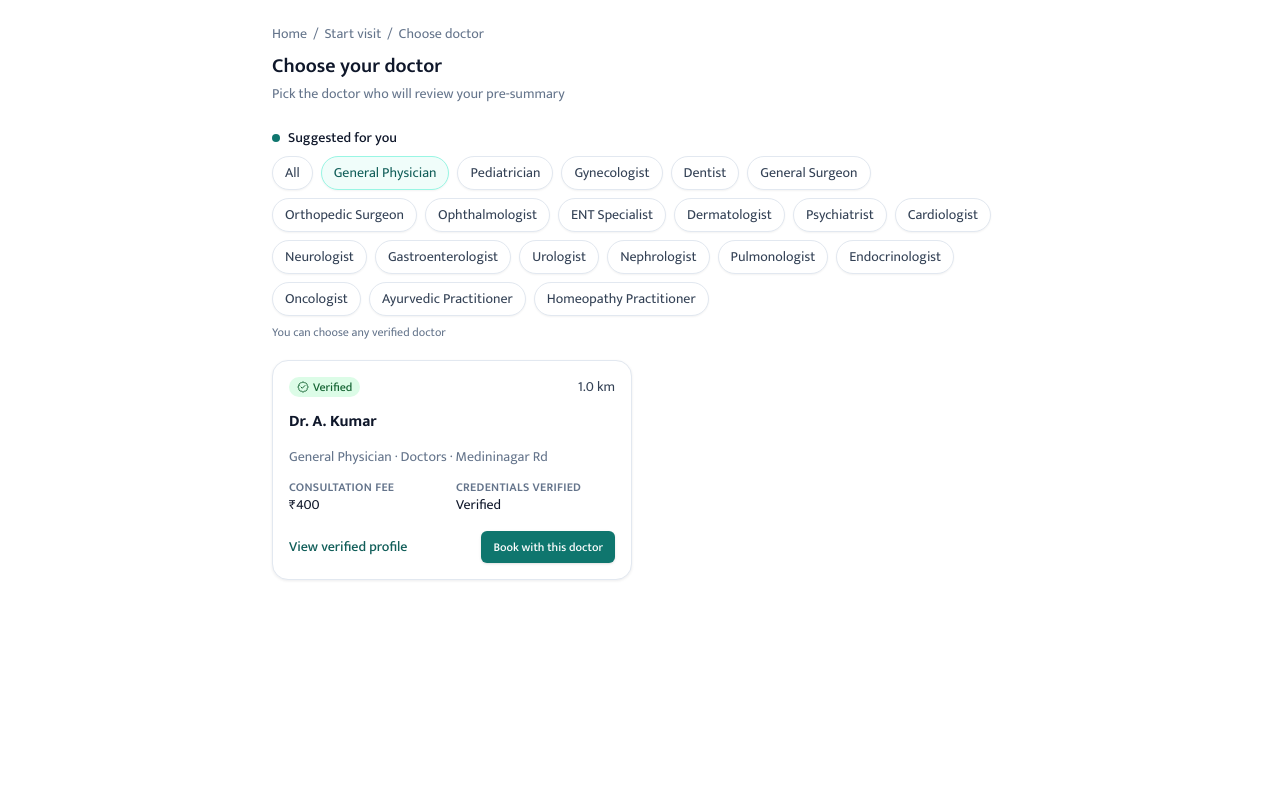
PickDoctorPage booking + confirmation › Allow records pick + consent in one step and shows confirmation with what happens next
The width and height of the screenshot is (1280, 800).
Expected: the element with test id "pick-cards" is shown, x1=272 y1=360 x2=632 y2=580
Click the button with test id "pick-book": (548, 547) x1=481 y1=531 x2=615 y2=563
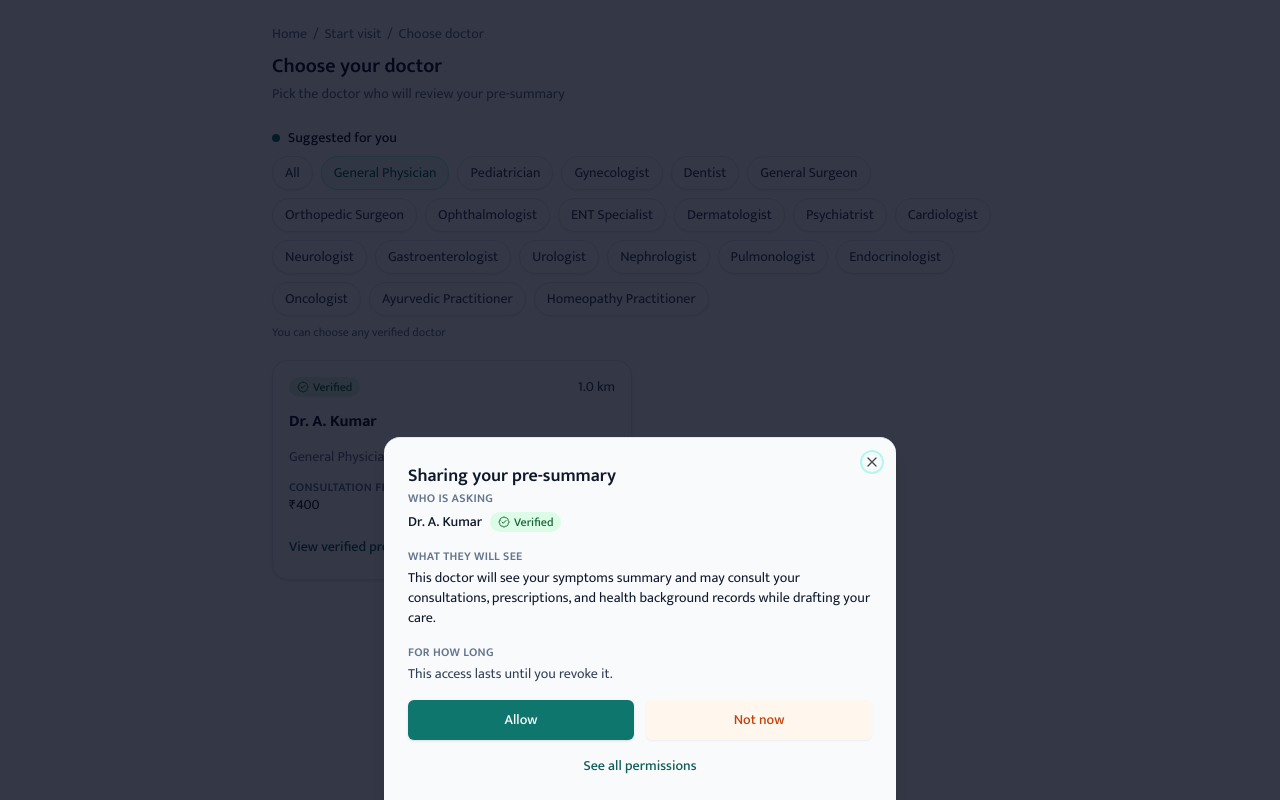
Expected: the heading "Sharing your pre-summary" is shown, x1=408 y1=461 x2=616 y2=491
Click the button with test id "pick-consent-allow": (521, 720) x1=408 y1=700 x2=634 y2=740
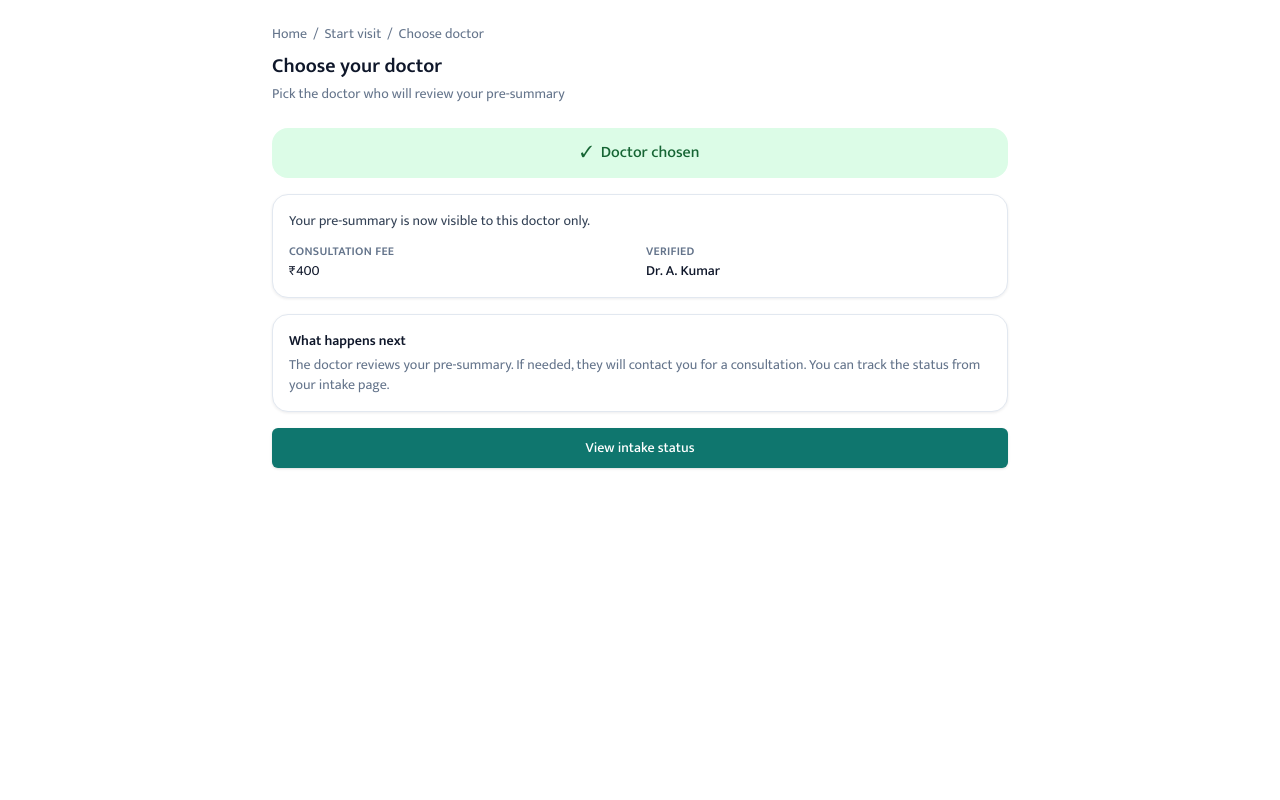
Expected: the message with test id "pick-confirmation" is shown, x1=272 y1=128 x2=1008 y2=468
Expected: the text with test id "pick-confirm-title" reads "Doctor chosen", x1=601 y1=139 x2=699 y2=166
Expected: the text with test id "pick-confirm-next" shows "The doctor reviews your pre-summary. If needed, they will contact you for a consultation. You can track the status from your intake page.", x1=289 y1=353 x2=980 y2=396
